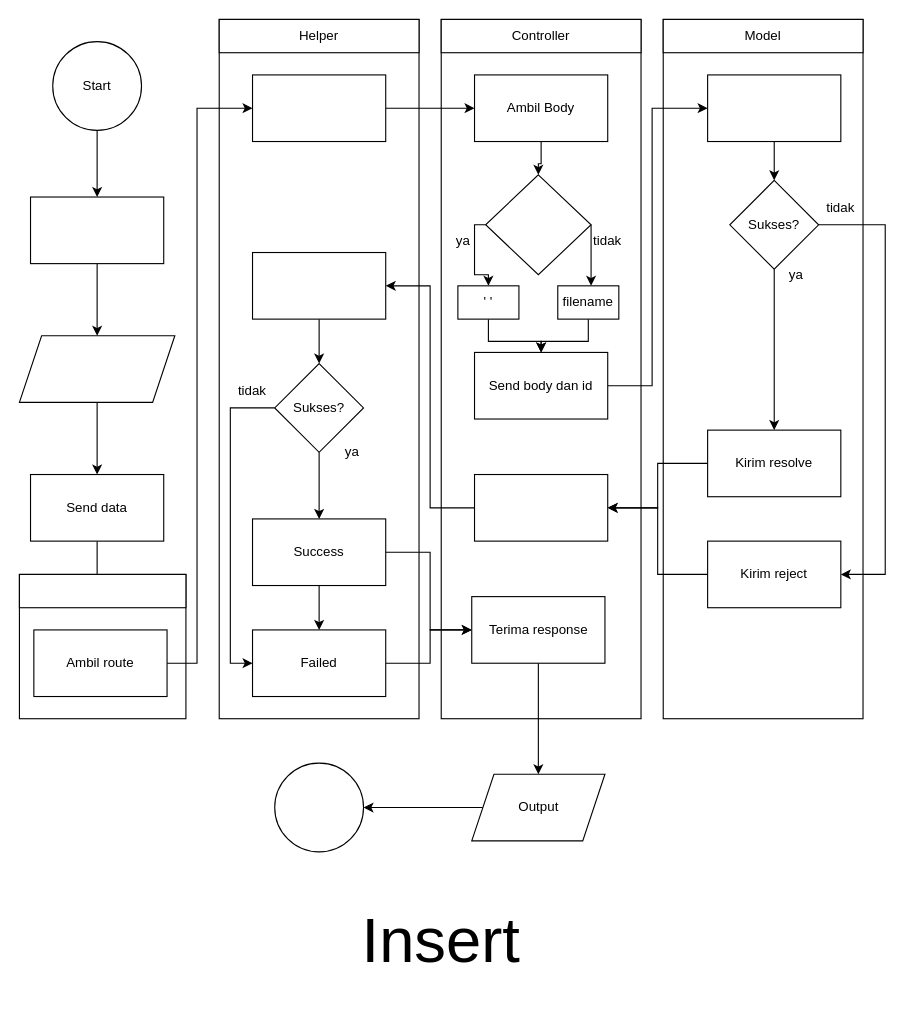
Image size: 914x1027. Some labels were removed from this diagram. The shapes that lost their labels are listed below. From the top down, each one's centre as x and y in pixels, then its label:
the point at 318,108: Upload
the point at 774,108: SQL insert
the point at 96,230: npm start
the point at 538,224: Apa req.file isinya kosong?
the point at 318,285: Helper Response
the point at 96,368: Masukan method di Postman, beserta routenya
the point at 540,507: Terima resolve atau reject
the point at 102,590: Route
the point at 319,807: End
